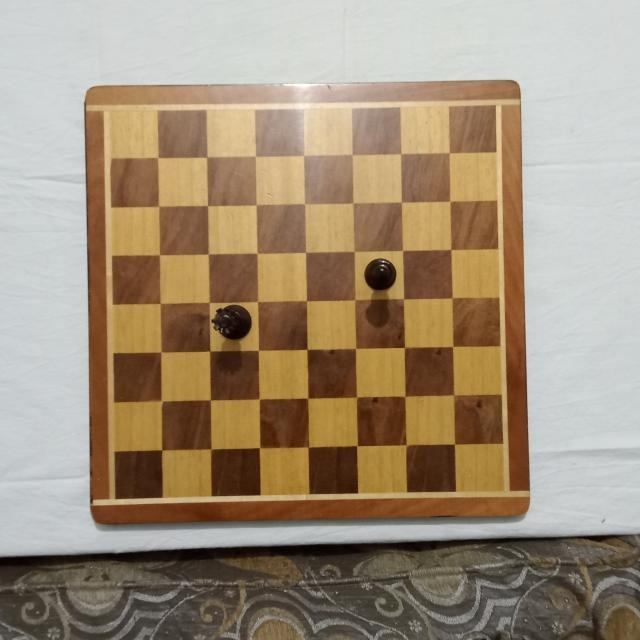black-king: (362, 256, 397, 291)
black-queen: (210, 303, 253, 340)
